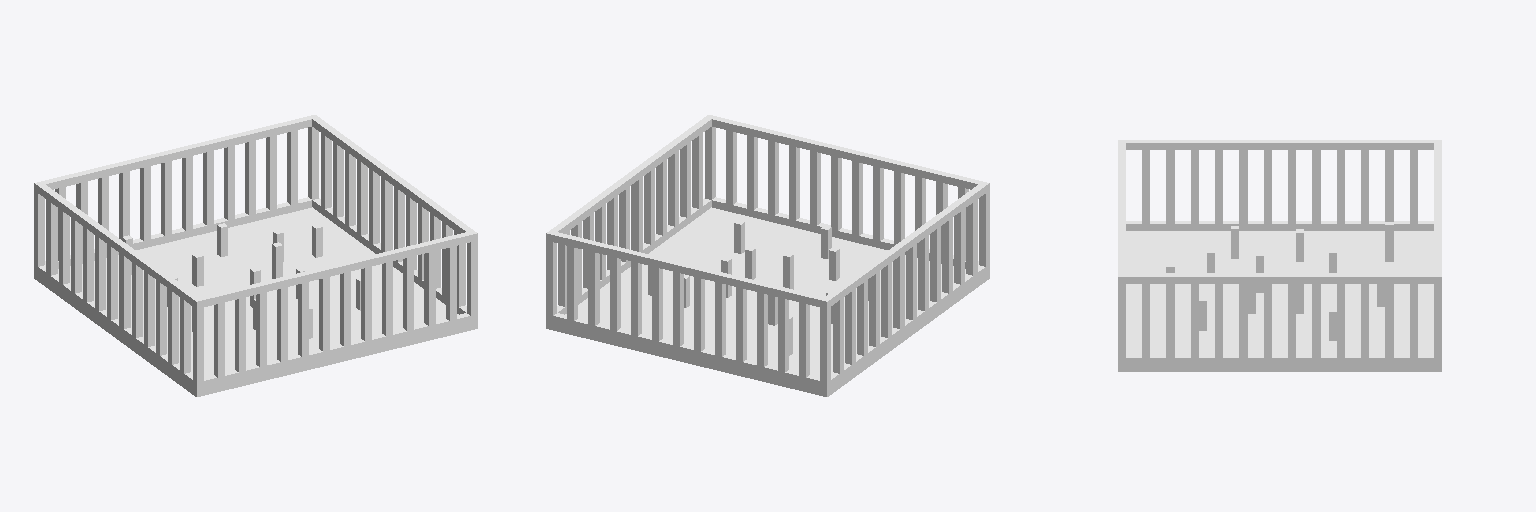
File: citydecor1.obj
3 renders of one model, left to right at view 1: azimuth 30°, elevation 25°; view 2: azimuth 150°, elevation 25°; view 3: azimuth 270°, elevation 25°, orthographic.
Parts seen in each view (by area): view 1: citydecor1; view 2: citydecor1; view 3: citydecor1.
Part boxes in pixels (bbox=[...]): citydecor1: bbox=[34, 115, 477, 396]; citydecor1: bbox=[546, 115, 989, 396]; citydecor1: bbox=[1118, 140, 1441, 371].
Bounding box in the file's own units: 40 × 13 × 40.